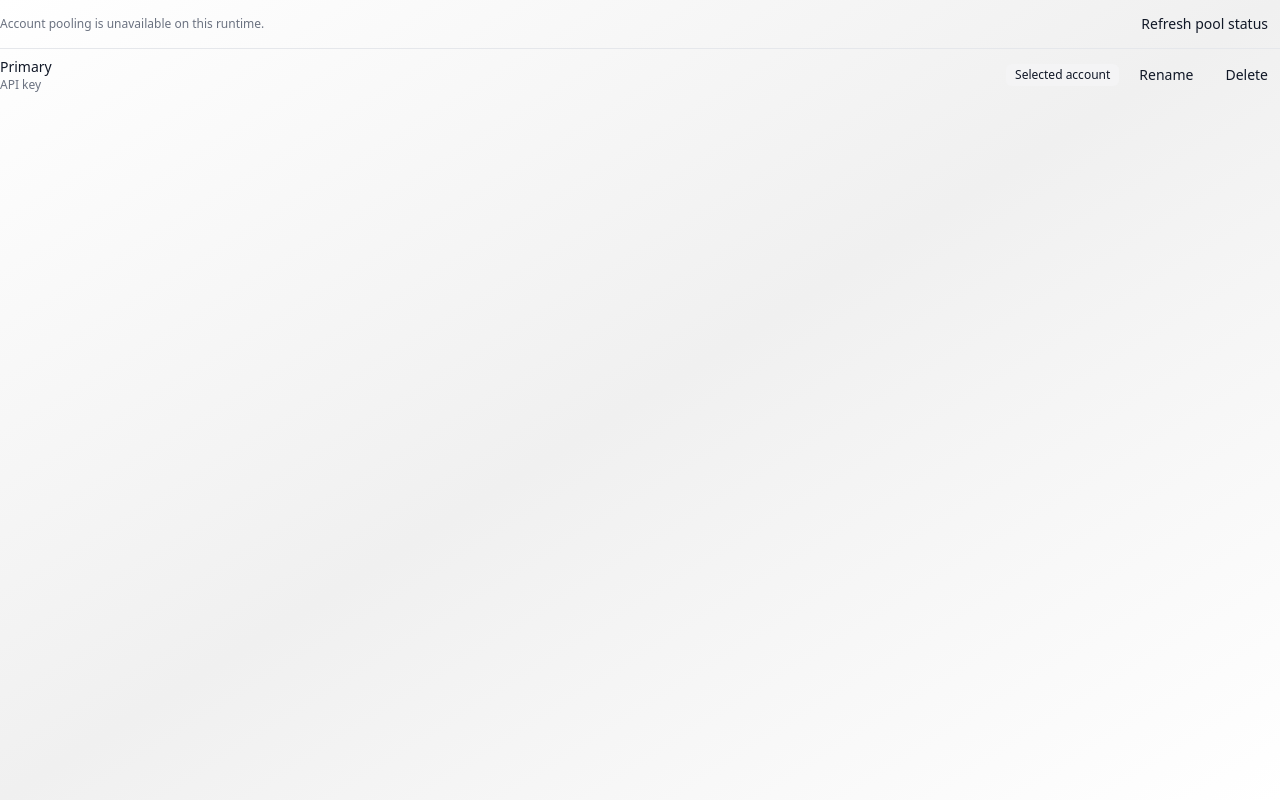
provider account list › requires confirmation for deletion and retains its dialog on failure: true
The image size is (1280, 800).
Step 1. Click the button with aria-label "Delete account {name}" → (1247, 75), box [1213,59,1279,91]
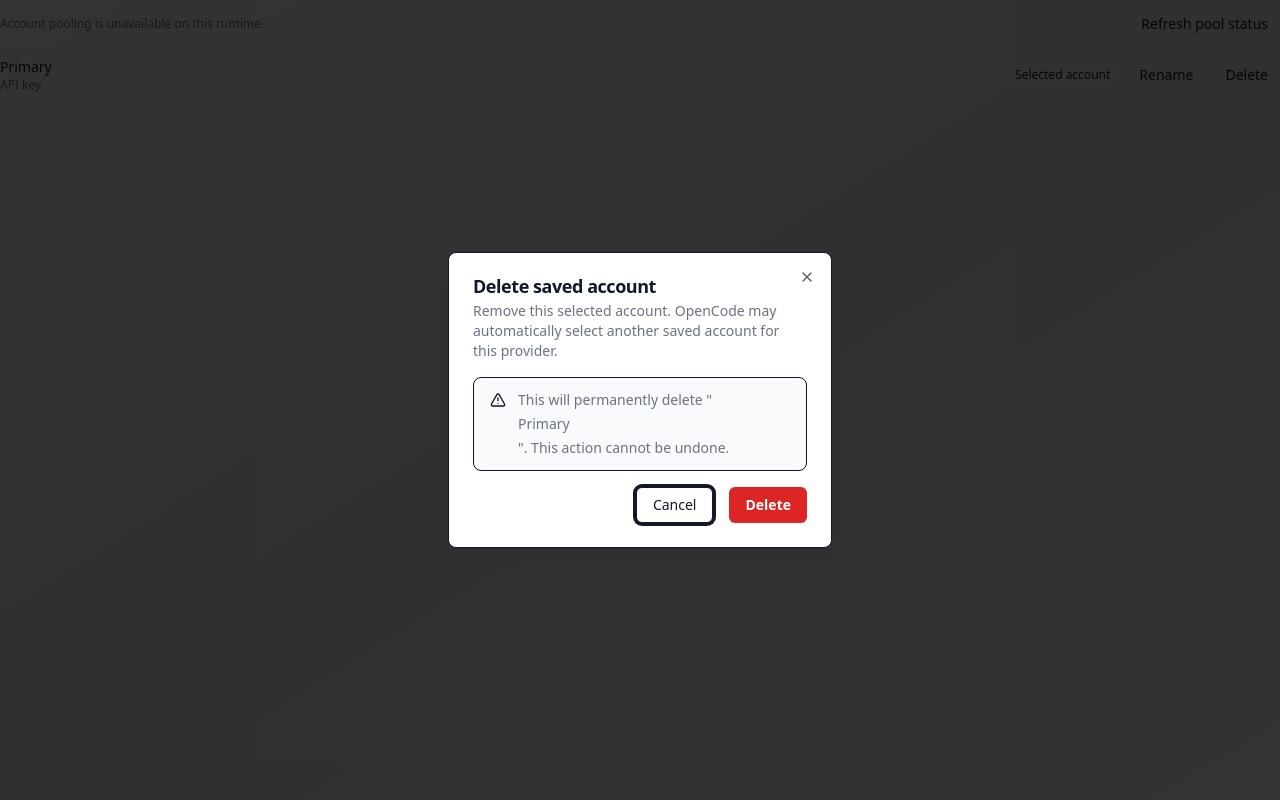
Expected: the text "Primary" is shown, [518,414,570,434]
Expected: the text "Remove this selected account. OpenCode may automatically select another saved account for this provider." is shown, [473,301,779,360]
Step 2. Click the button "Cancel" → (675, 505), box [636,487,714,523]
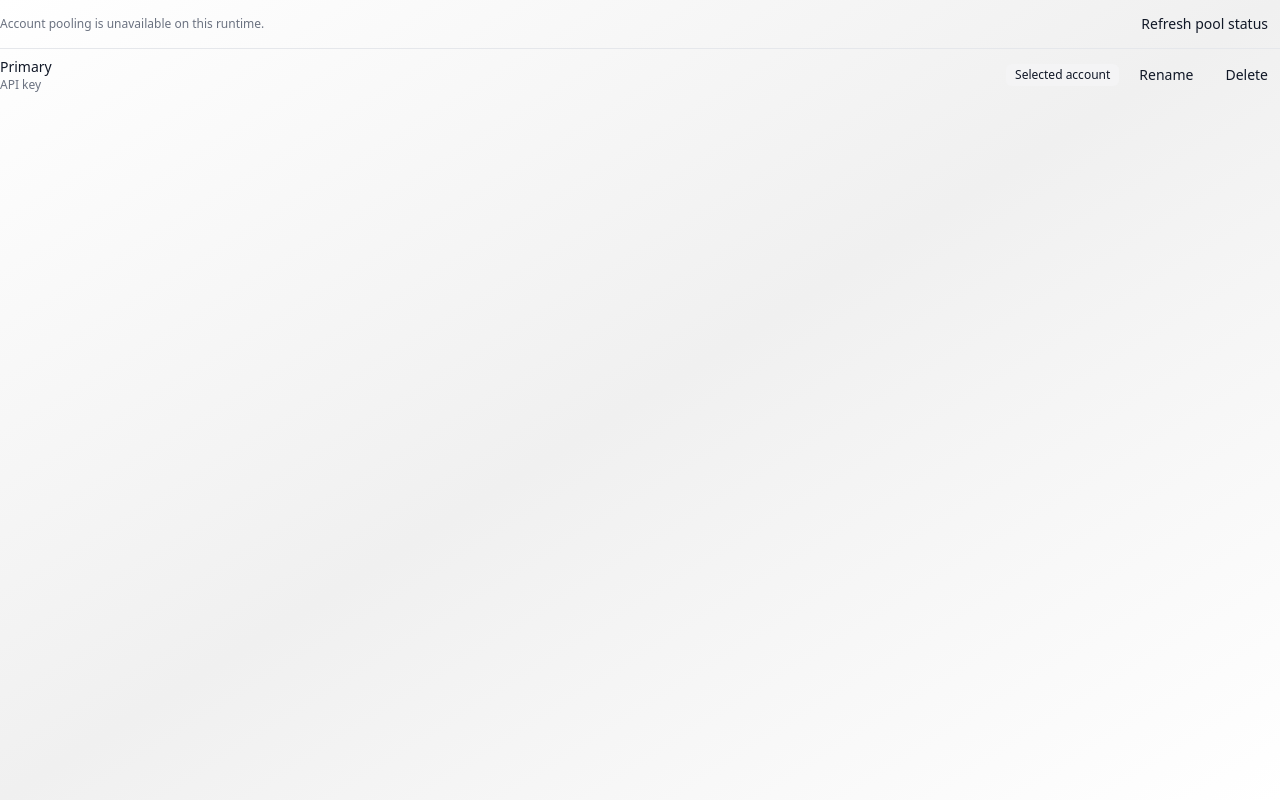
Step 3. Click the button with aria-label "Delete account {name}" → (1247, 75), box [1213,59,1279,91]
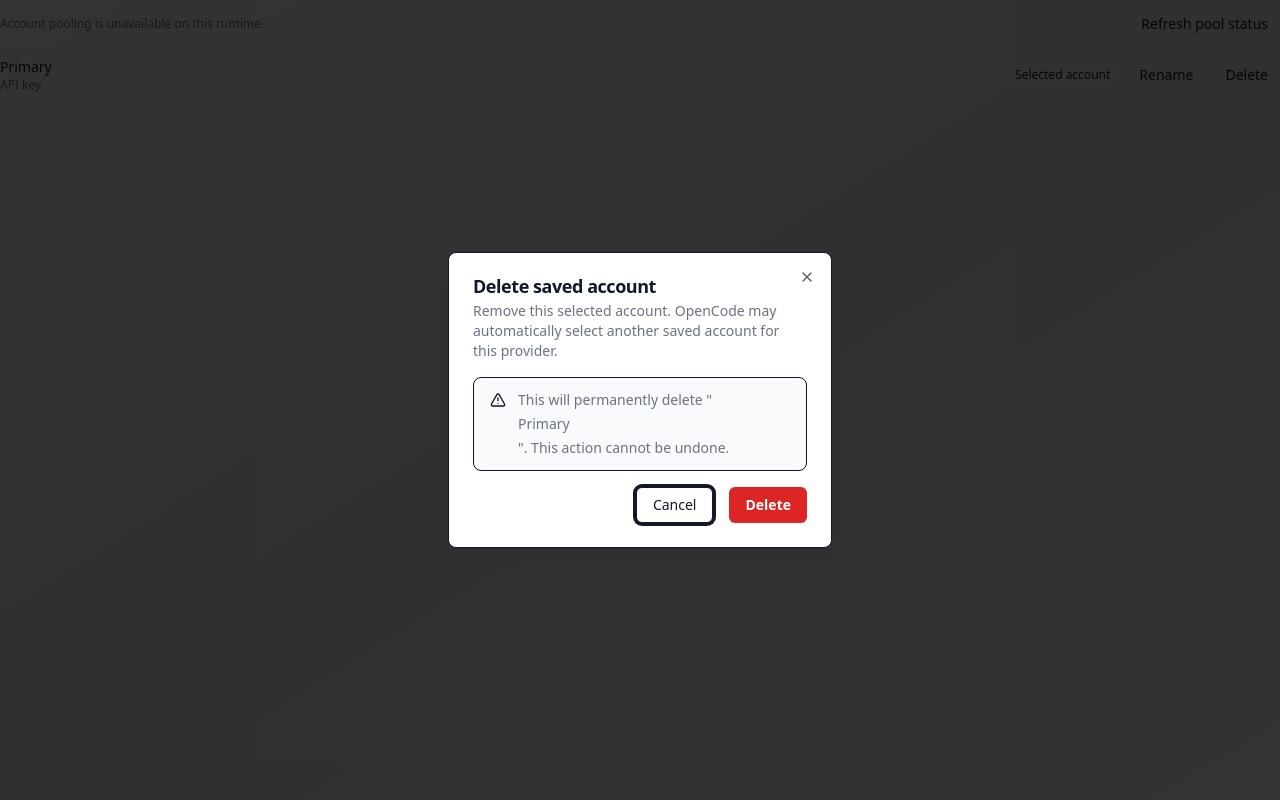
Step 4. Click the button "Delete" → (768, 505), box [730,487,807,523]
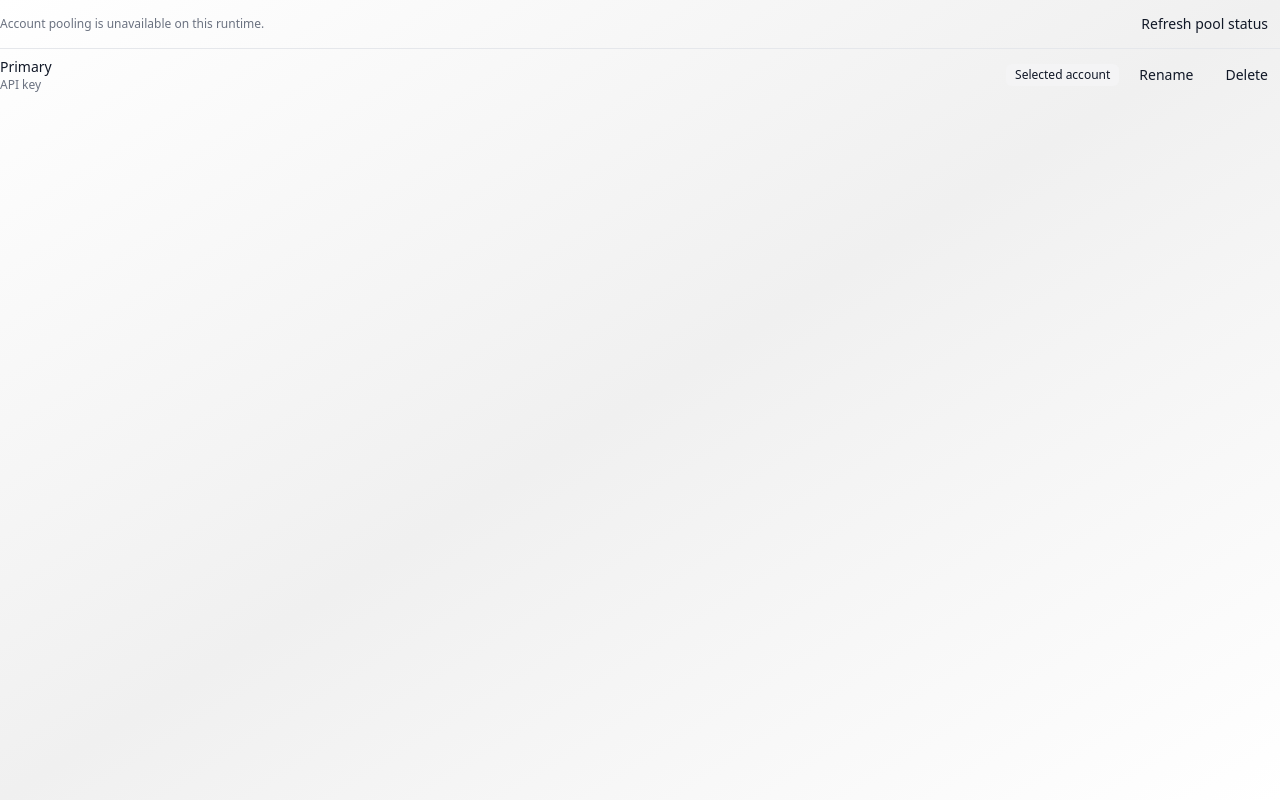
Expected: the dialog is gone
